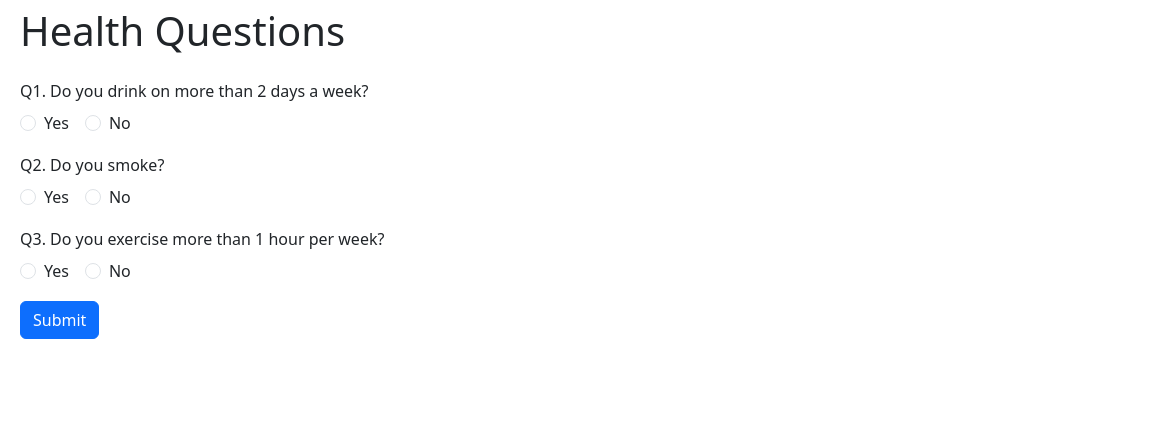
Test: Assessment component › shows error when form submitted with all missing answers
The width and height of the screenshot is (1153, 434).
Click the button "Submit": point(60, 320) top-left (20, 301), bottom-right (99, 339)
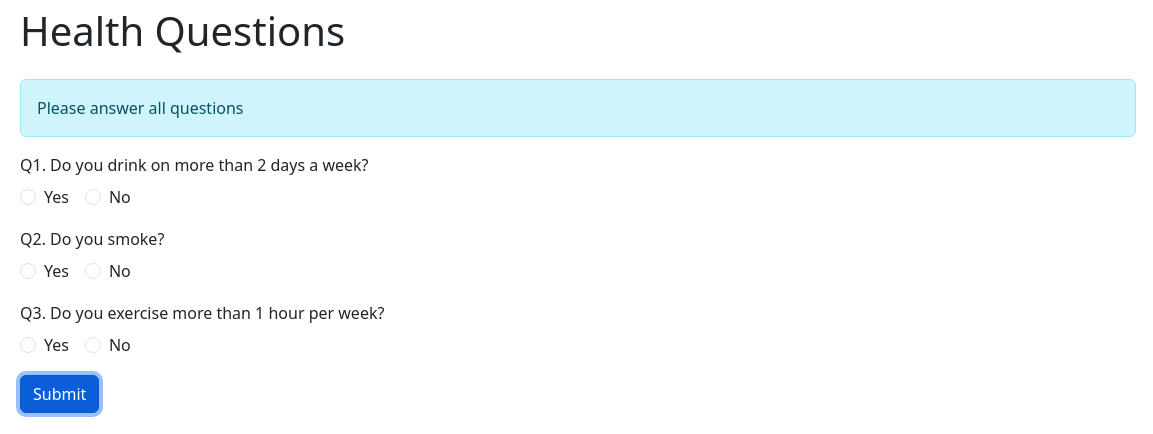
Expected: the text "Please answer all questions" is shown, top-left (20, 79), bottom-right (1136, 137)
